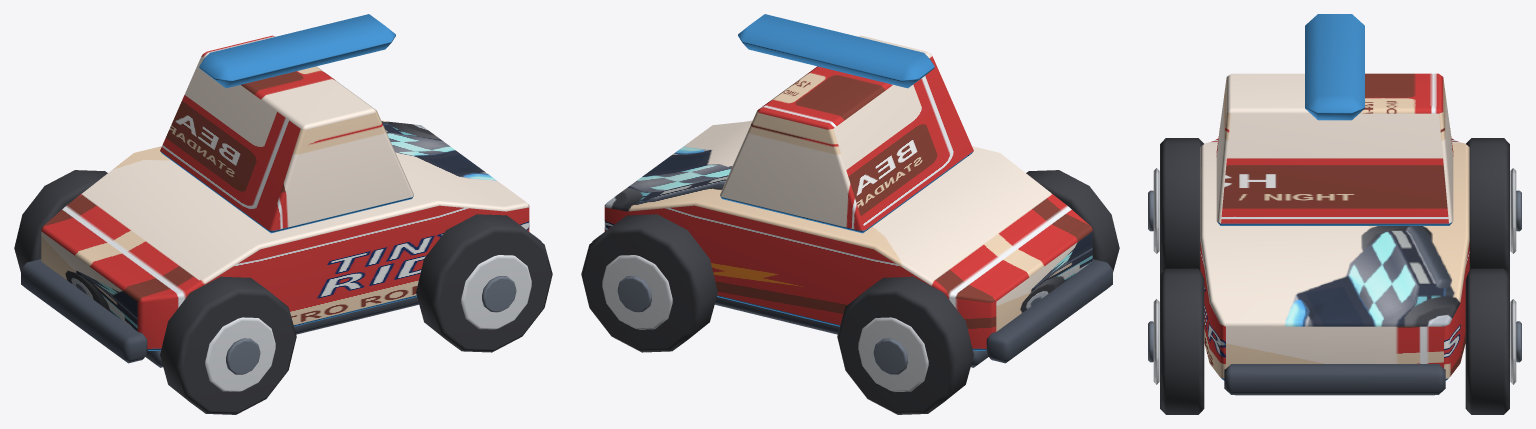
The picture shows the model from 3 angles, left to right: view 1: azimuth 30°, elevation 25°; view 2: azimuth 150°, elevation 25°; view 3: azimuth 270°, elevation 25°; orthographic projection. The views are drawn at different scales.
Visible parts, largest first — view 1: RR-03_connected_shell, RR-03_cabin, Tire.002, Tire, beach surfboard, front bumper, Rim.002, Rim, Tire.001, underbody, Hub, Hub.002; view 2: RR-03_connected_shell, RR-03_cabin, Tire.003, Tire.001, beach surfboard, front bumper, Rim.003, Rim.001, Tire, underbody, Hub.001, Hub.003; view 3: RR-03_connected_shell, RR-03_cabin, rear bumper, Tire.002, Tire.003, beach surfboard, Tire, Tire.001, Rim, Rim.001, Rim.002, Rim.003.
Boxes of the visible parts, x1,y1,x2,y2 form: RR-03_connected_shell: [41, 120, 529, 350]; RR-03_cabin: [160, 35, 413, 233]; Tire.002: [416, 214, 552, 352]; Tire: [160, 276, 296, 414]; beach surfboard: [199, 14, 395, 88]; front bumper: [21, 259, 147, 363]; Rim.002: [461, 255, 531, 329]; Rim: [205, 317, 275, 391]; Tire.001: [14, 170, 107, 271]; underbody: [145, 297, 418, 367]; Hub: [226, 338, 260, 374]; Hub.002: [482, 276, 516, 312]; RR-03_connected_shell: [604, 120, 1092, 350]; RR-03_cabin: [720, 35, 973, 233]; Tire.003: [581, 214, 717, 352]; Tire.001: [837, 276, 973, 414]; beach surfboard: [738, 14, 934, 88]; front bumper: [986, 259, 1112, 363]; Rim.003: [602, 255, 672, 329]; Rim.001: [858, 317, 928, 391]; Tire: [1026, 170, 1119, 271]; underbody: [715, 297, 988, 367]; Hub.001: [873, 338, 907, 374]; Hub.003: [617, 276, 651, 312]; RR-03_connected_shell: [1200, 138, 1469, 380]; RR-03_cabin: [1216, 73, 1453, 225]; rear bumper: [1224, 364, 1445, 394]; Tire.002: [1160, 268, 1204, 414]; Tire.003: [1465, 268, 1509, 414]; beach surfboard: [1305, 14, 1364, 120]; Tire: [1160, 138, 1203, 274]; Tire.001: [1466, 138, 1509, 274]; Rim: [1153, 168, 1159, 253]; Rim.001: [1510, 168, 1516, 253]; Rim.002: [1153, 299, 1159, 384]; Rim.003: [1510, 299, 1516, 384].
Size of the model in its own units: 298 by 191 by 219.
